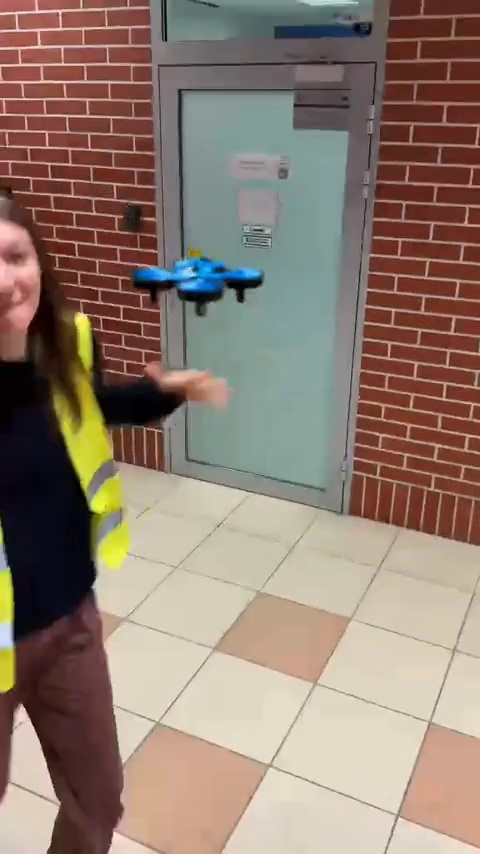drone: (123, 250, 267, 318)
vest: (0, 198, 203, 854)
